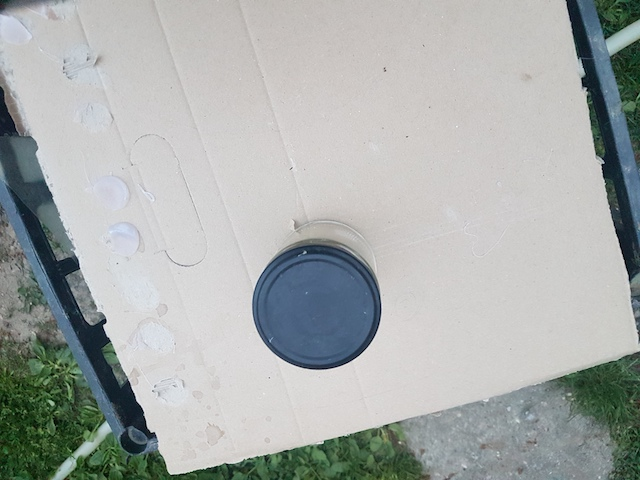recipient: (251, 241, 381, 371)
